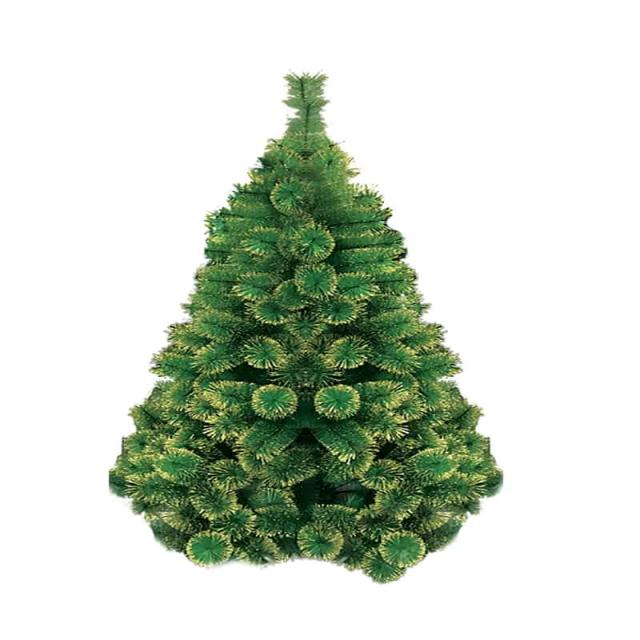Christmas-tree: (110, 55, 534, 610)
